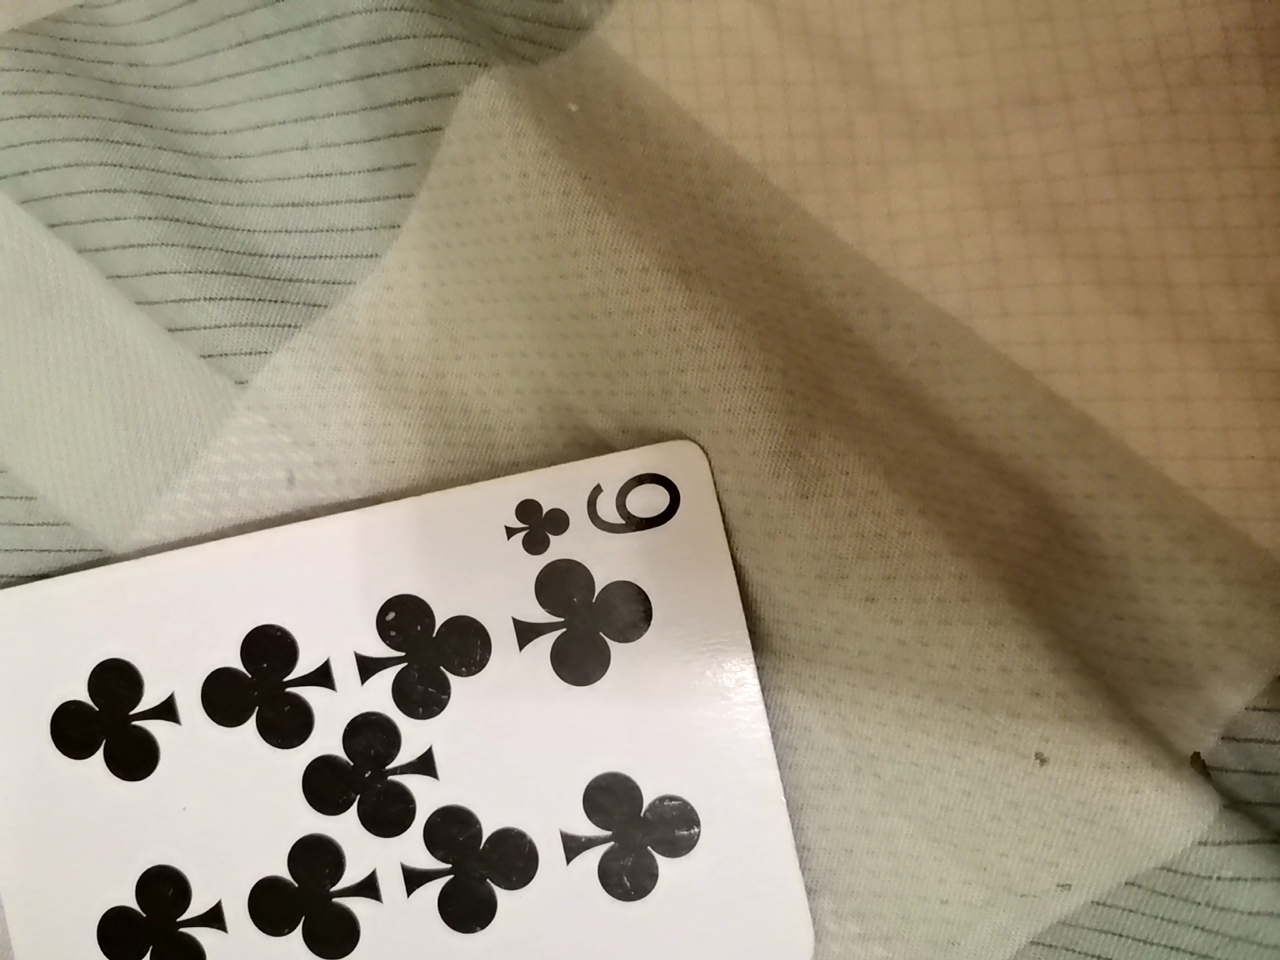mh 9: (10, 439, 855, 960)
